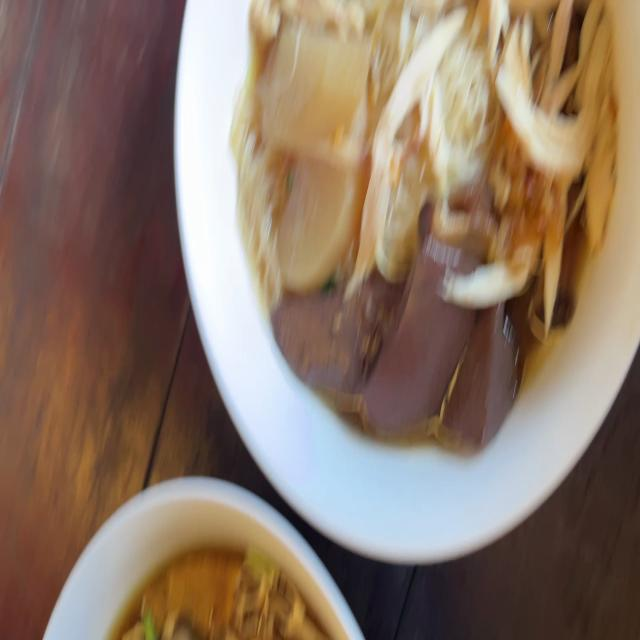noodle: (219, 0, 626, 475), (102, 542, 351, 640)
